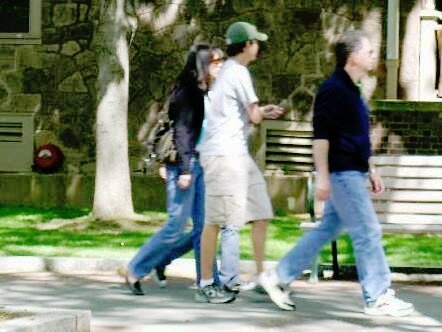person: (278, 29, 420, 314), (194, 15, 292, 310)
